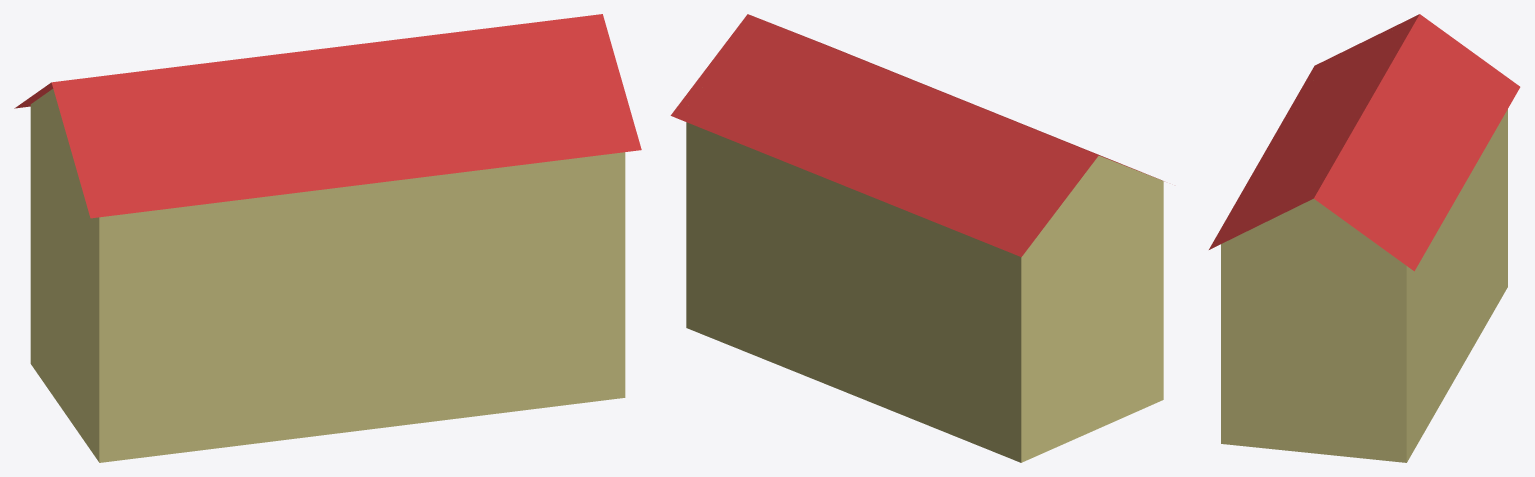
The picture shows the model from 3 angles, left to right: view 1: azimuth 30°, elevation 25°; view 2: azimuth 150°, elevation 25°; view 3: azimuth 270°, elevation 25°; orthographic projection. The views are drawn at different scales.
Bounding box in the file's own units: 23.41 × 15.01 × 13.76.
